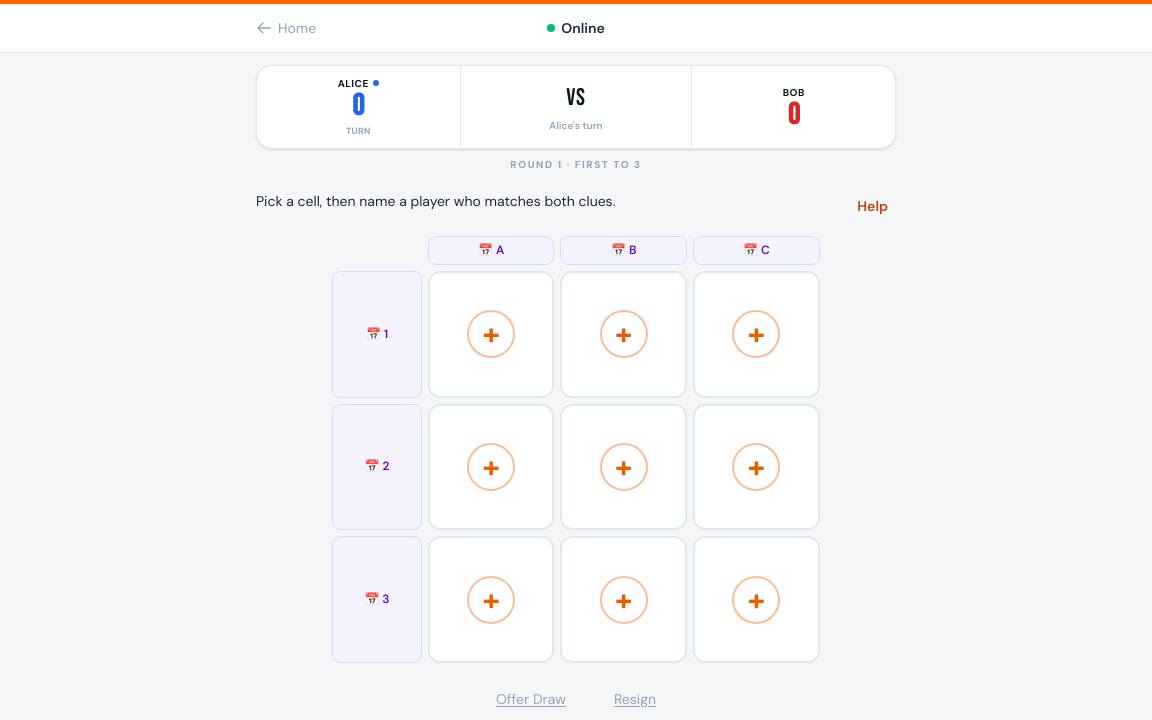
Test: GameBoard online resign › resigns through the HTTP give-up endpoint and shows the self-resign outcome
First click reveals the confirm dialog, second click confirms.
Click the button "Resign".
click(635, 699)  # box [606,677,664,719]
(page scrolled)
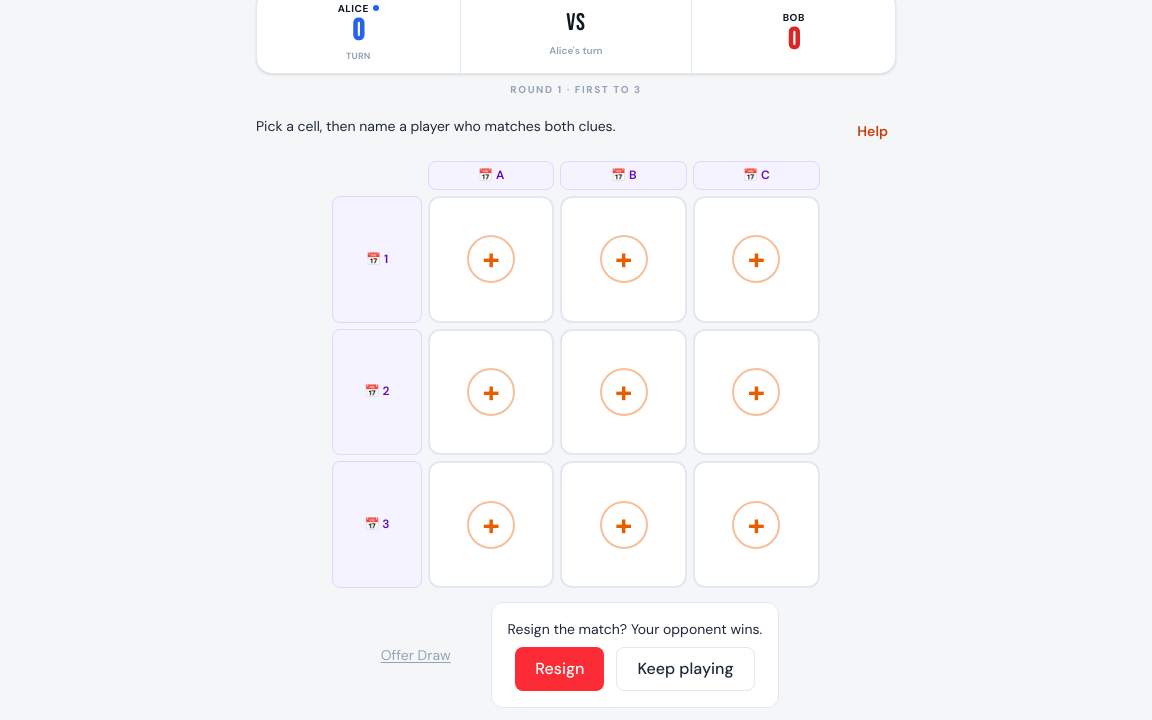
Click the button "Resign".
click(560, 669)  # box [515,647,604,691]
(page scrolled)
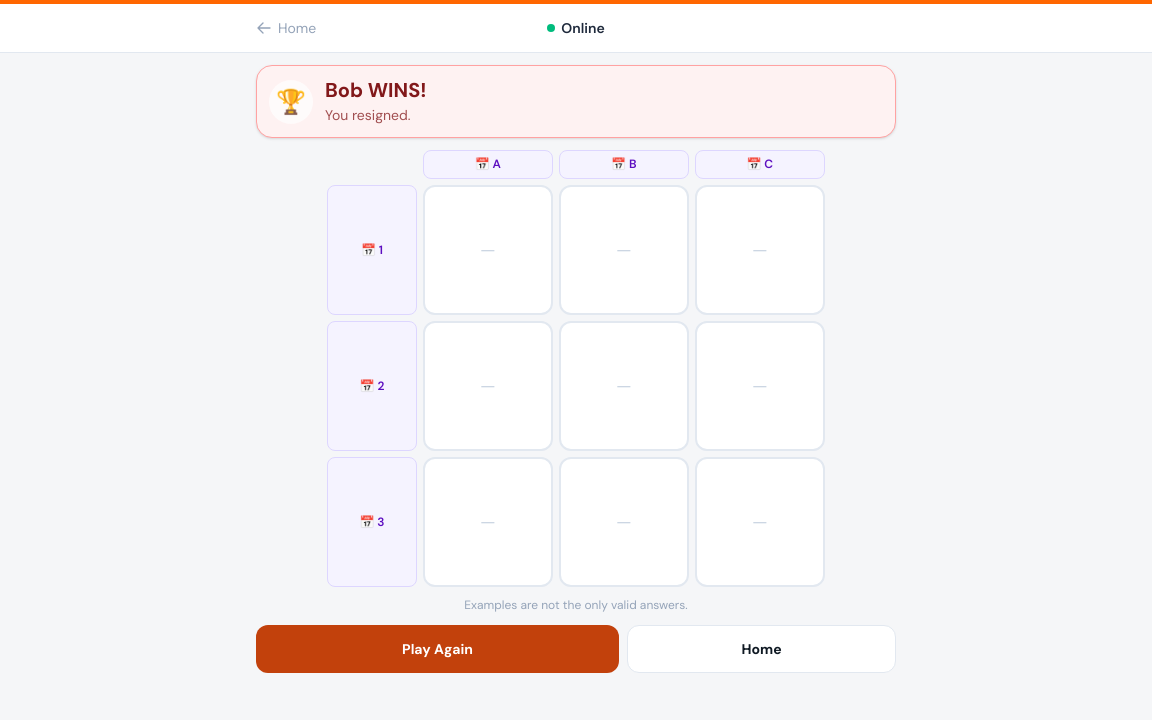
Result: the text "You resigned." is shown at [325,106,411,124]
